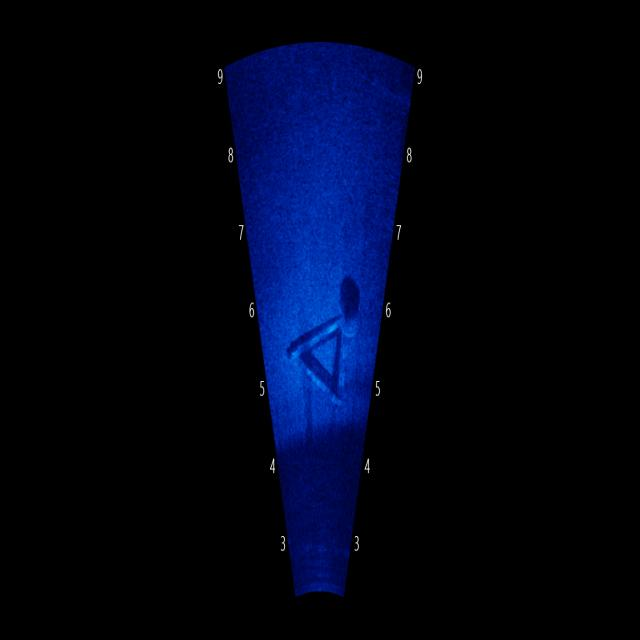triangle: (282, 253, 355, 418)
